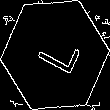L_NW: (28, 30, 82, 80)
